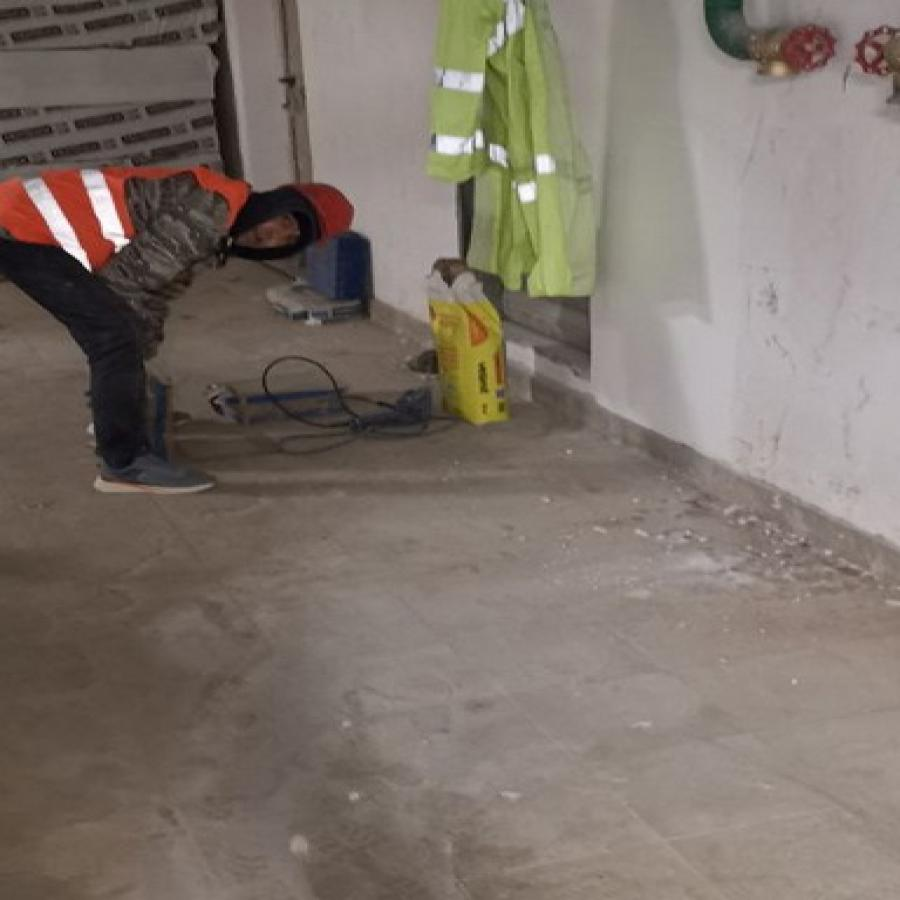Helmet: (241, 181, 355, 264)
